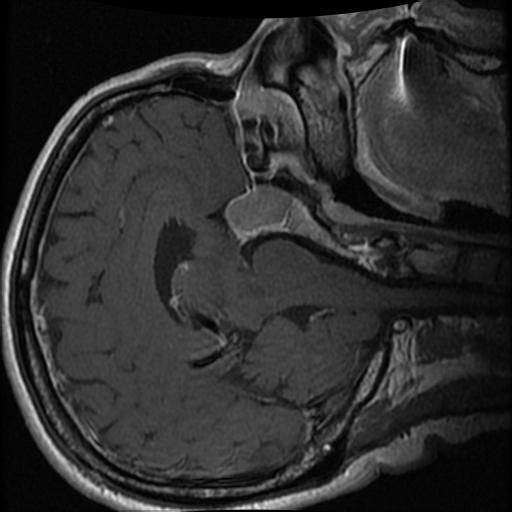pituitary tumour: (226, 184, 291, 241)
